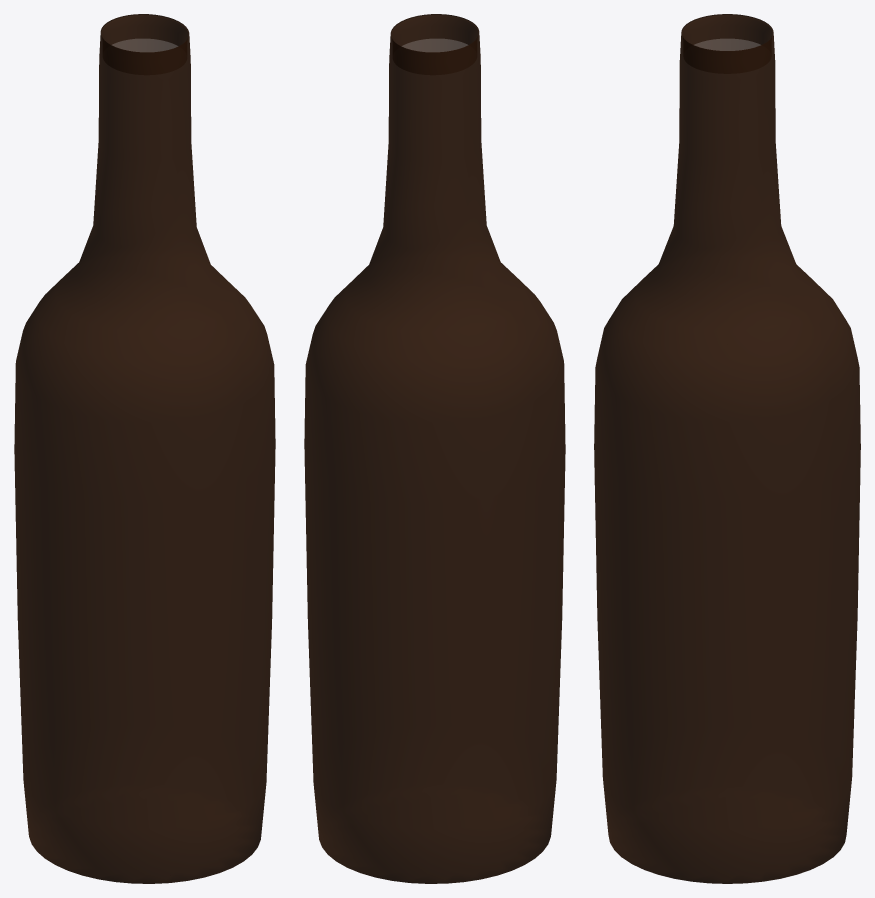
Rendered from bottle_brown.fbx.
The picture shows the model from 3 angles, left to right: view 1: azimuth 30°, elevation 25°; view 2: azimuth 150°, elevation 25°; view 3: azimuth 270°, elevation 25°; orthographic projection.
Parts seen in each view (by area): view 1: pCylinder243; view 2: pCylinder243; view 3: pCylinder243.
Part boxes in pixels (left/top/right/bottom): pCylinder243: left=14, top=14, right=275, bottom=883; pCylinder243: left=304, top=14, right=565, bottom=883; pCylinder243: left=594, top=14, right=860, bottom=883.
Bounding box in the file's own units: 0.3563 × 1.22 × 0.3644.
